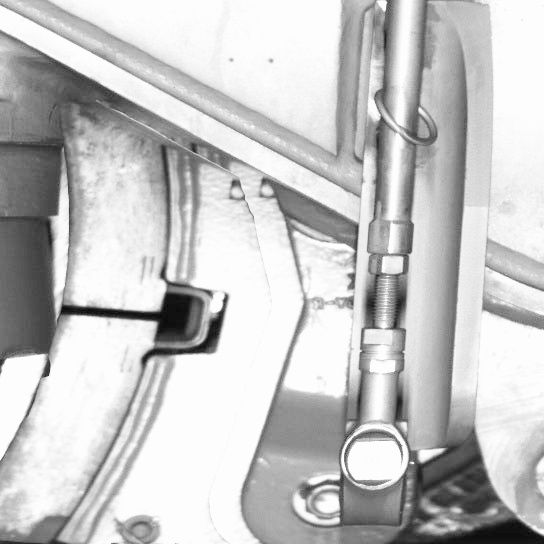ClosedKnifeSwitch: (2, 139, 162, 542)
